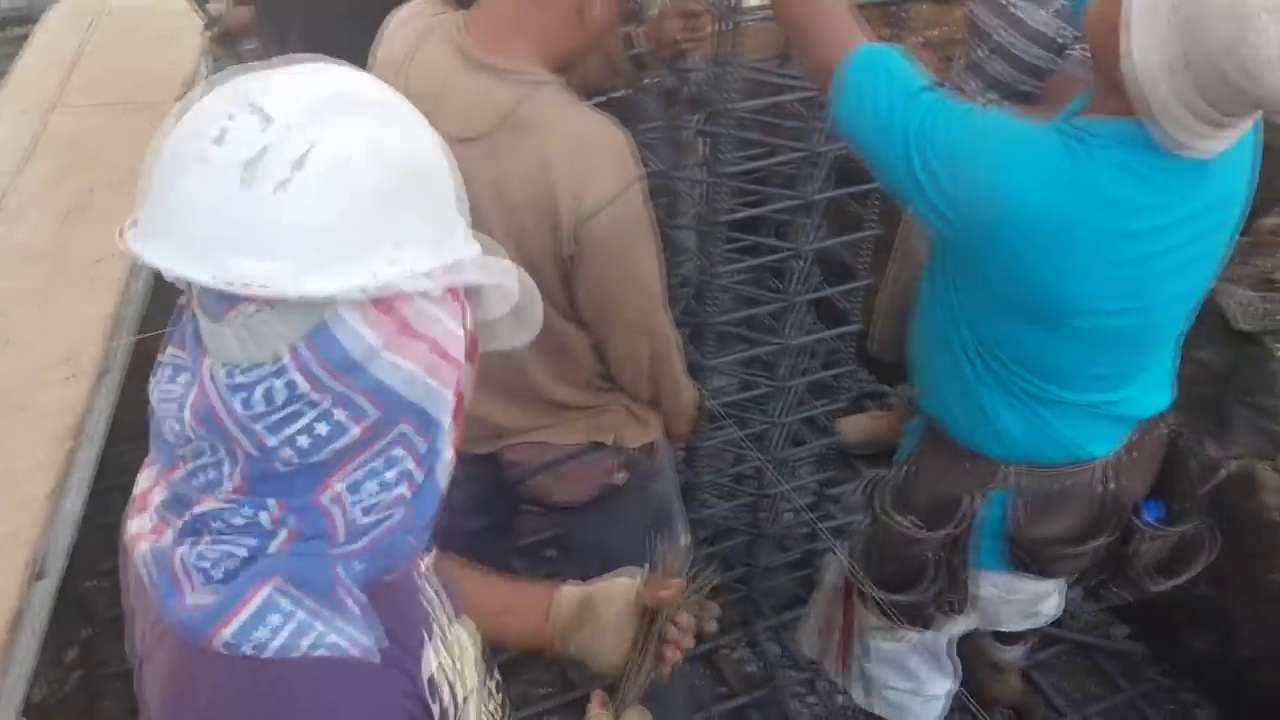helmet: (121, 64, 507, 308)
helmet-off: (1069, 0, 1280, 167)
helmet-on: (103, 62, 511, 527)
person: (100, 45, 715, 718), (770, 0, 1280, 720), (362, 1, 706, 566)
